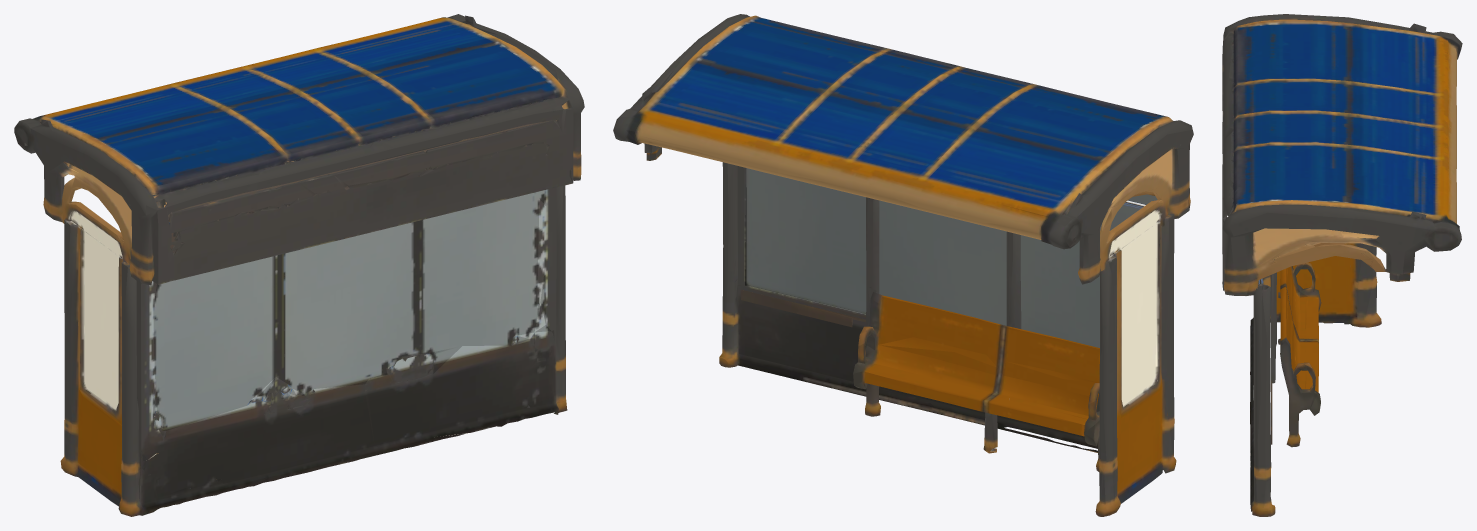
File: tram_shelter.glb
The picture shows the model from 3 angles, left to right: view 1: azimuth 30°, elevation 25°; view 2: azimuth 150°, elevation 25°; view 3: azimuth 270°, elevation 25°; orthographic projection. The views are drawn at different scales.
Parts seen in each view (by area): view 1: shelter; view 2: shelter; view 3: shelter.
Part boxes in pixels (x1,y1,x2,y2): shelter: (14, 14, 584, 516); shelter: (613, 14, 1193, 516); shelter: (1222, 14, 1462, 516).
Bounding box in the file's own units: 4.34 × 3.17 × 2.23.
Materials: 2 (2 with a texture image).
